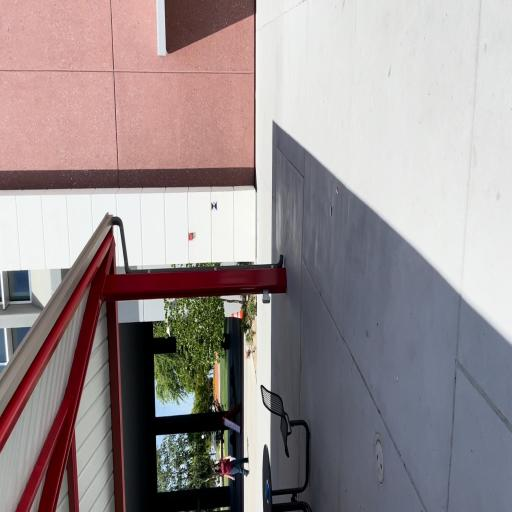target9: (211, 201, 217, 211)
